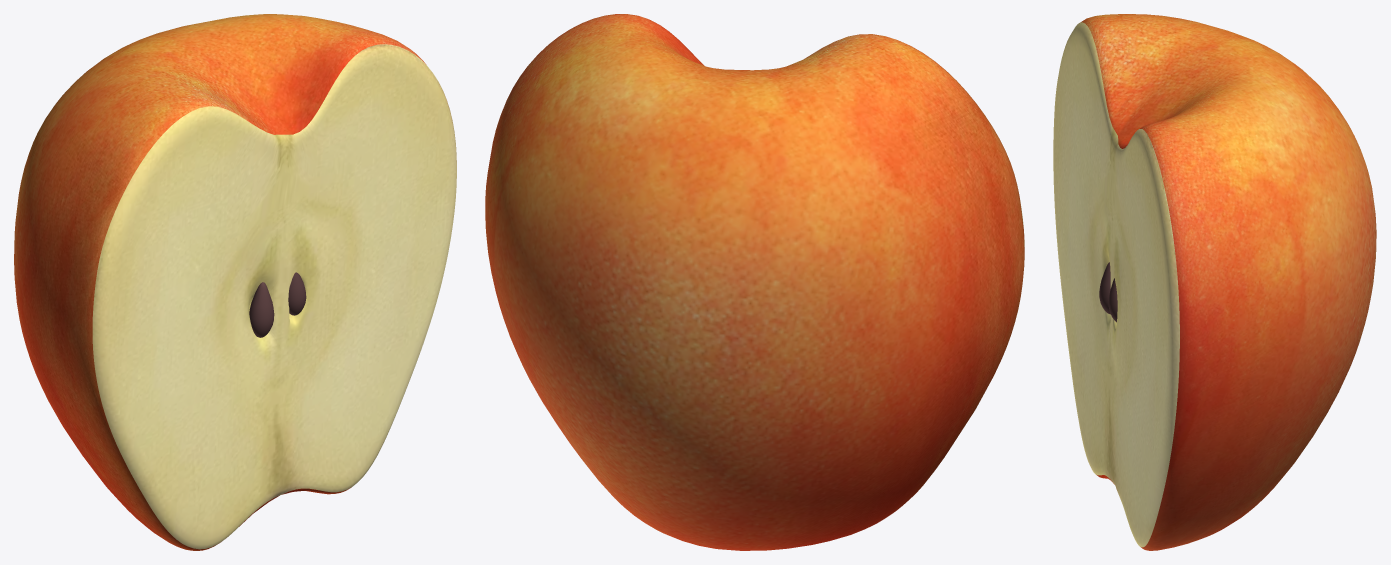
The model's file is apple-half.glb.
3 views of the same model, side by side, from view 1: azimuth 30°, elevation 25°; view 2: azimuth 150°, elevation 25°; view 3: azimuth 270°, elevation 25° (orthographic). The views are drawn at different scales.
Visible parts, largest first — view 1: APPLE.002; view 2: APPLE.002; view 3: APPLE.002.
Part boxes in pixels (x1,y1,x2,y2): APPLE.002: (14,14,456,550); APPLE.002: (485,14,1024,550); APPLE.002: (1053,14,1376,550).
Size of the model in its own units: 170 by 169 by 112.
3 materials, 2 textured.
